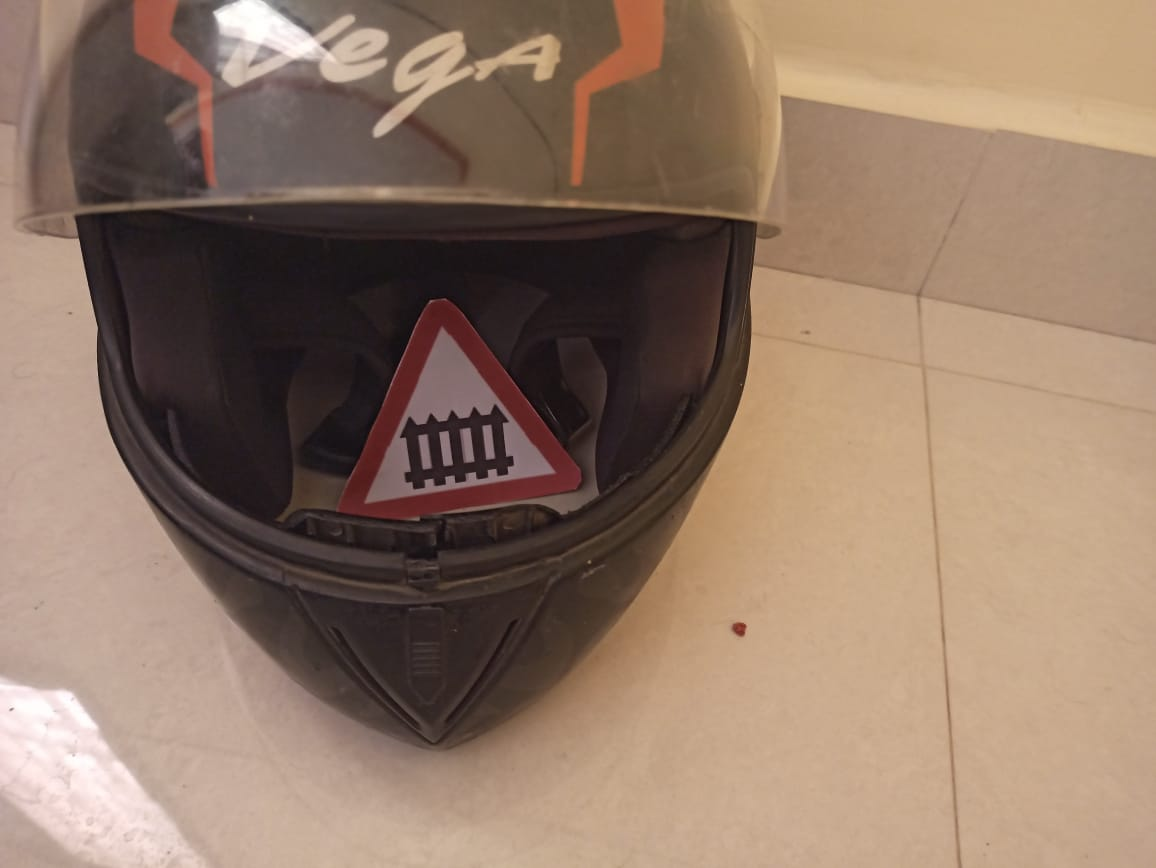GUARDED LEVEL CROSSING: (344, 286, 585, 515)
